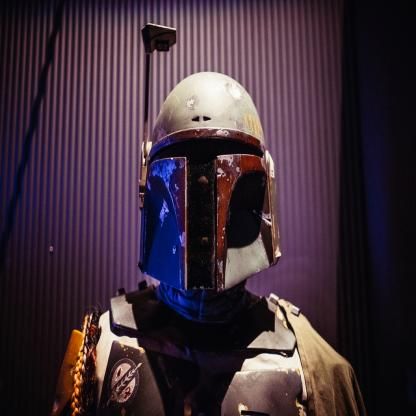Helmet: (130, 72, 278, 300)
